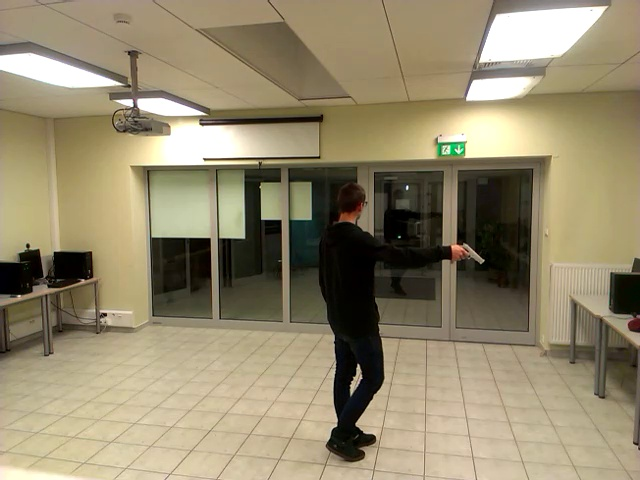gun: (449, 228, 490, 275)
